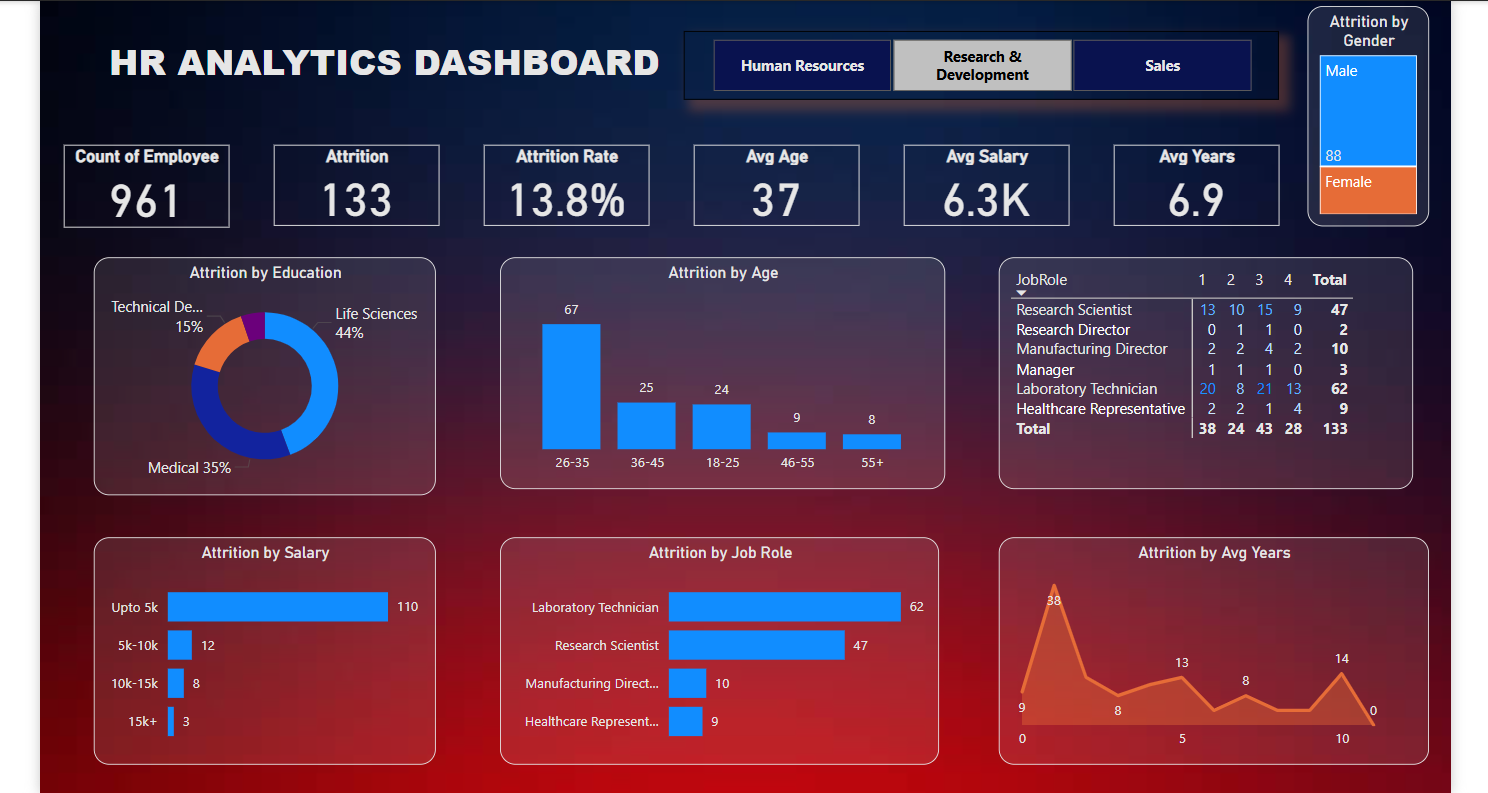

The page's visual inventory and layout, read from the dashboard file:
{"tool":"powerbi","page":{"name":"Page 1","canvas":[1280,720],"ordinal":0},"visuals":[{"type":"card","title":"Count of Employee","fields":{"Values":["CountNonNull(HR_Analytics.EmpID)"]},"box":[21.2,130,150,75],"z":0},{"type":"card","title":"Attrition","fields":{"Values":["Sum(HR_Analytics.AttritionCount)"]},"box":[211.8,130,150,73.8],"z":1000},{"type":"card","title":"Attrition Rate","fields":{"Values":["HR_Analytics.Attrition Rate"]},"box":[402.2,130,150,73.8],"z":2000},{"type":"card","title":"Avg Age","fields":{"Values":["Avg(HR_Analytics.Age)"]},"box":[592.8,130,150,73.8],"z":3000},{"type":"card","title":"Avg Salary","fields":{"Values":["Avg(HR_Analytics.MonthlyIncome)"]},"box":[783.2,130,150,73.8],"z":4000},{"type":"card","title":"Avg Years","fields":{"Values":["Avg(HR_Analytics.YearsAtCompany)"]},"box":[973.8,130,150,73.8],"z":5000},{"type":"donutChart","title":"Attrition by Education","fields":{"Category":["HR_Analytics.EducationField"],"Y":["Sum(HR_Analytics.AttritionCount)"]},"box":[48.8,232.5,310,216.2],"z":6000},{"type":"columnChart","title":"Attrition by Age","fields":{"Category":["HR_Analytics.AgeGroup"],"Y":["Sum(HR_Analytics.AttritionCount)"]},"box":[417.5,232.5,403.8,210],"z":7000},{"type":"pivotTable","title":"Job Satisfaction Rating","fields":{"Rows":["HR_Analytics.JobRole"],"Columns":["HR_Analytics.JobSatisfaction"],"Values":["Sum(HR_Analytics.AttritionCount)"]},"box":[870,232.5,376.2,210],"z":8000},{"type":"barChart","title":"Attrition by Salary","fields":{"Category":["HR_Analytics.SalarySlab"],"Y":["Sum(HR_Analytics.AttritionCount)"]},"box":[48.8,486.2,310,206.2],"z":9000},{"type":"barChart","title":"Attrition by Job Role","fields":{"Y":["Sum(HR_Analytics.AttritionCount)"],"Category":["HR_Analytics.JobRole"]},"box":[417.5,486.2,398.8,206.2],"z":10000},{"type":"areaChart","title":"Attrition by Avg Years","fields":{"Category":["HR_Analytics.YearsAtCompany"],"Y":["Sum(HR_Analytics.AttritionCount)"]},"box":[870,486.2,390,206.2],"z":11000},{"type":"treemap","title":"Attrition by Gender","fields":{"Group":["HR_Analytics.Gender"],"Values":["Sum(HR_Analytics.AttritionCount)"]},"box":[1150,5,110,200],"z":12000},{"type":"slicer","fields":{"Values":["HR_Analytics.Department"]},"box":[583.8,27.5,540,62.5],"z":13000},{"type":"textbox","box":[21.2,27.5,592.5,62.5],"z":14000}]}

Visuals, with their boxes on the page's 1280x720 design canvas (x1, y1, x2, y2). These are canvas units, not pixel positions in the 1488x793 screenshot, which may show the page scaled, cropped or inside an application window:
"Count of Employee" card: <region>21, 130, 171, 205</region>
"Attrition" card: <region>212, 130, 362, 204</region>
"Attrition Rate" card: <region>402, 130, 552, 204</region>
"Avg Age" card: <region>593, 130, 743, 204</region>
"Avg Salary" card: <region>783, 130, 933, 204</region>
"Avg Years" card: <region>974, 130, 1124, 204</region>
"Attrition by Education" donutChart: <region>49, 232, 359, 449</region>
"Attrition by Age" columnChart: <region>418, 232, 821, 442</region>
"Job Satisfaction Rating" pivotTable: <region>870, 232, 1246, 442</region>
"Attrition by Salary" barChart: <region>49, 486, 359, 692</region>
"Attrition by Job Role" barChart: <region>418, 486, 816, 692</region>
"Attrition by Avg Years" areaChart: <region>870, 486, 1260, 692</region>
"Attrition by Gender" treemap: <region>1150, 5, 1260, 205</region>
slicer - HR_Analytics.Department: <region>584, 28, 1124, 90</region>
textbox: <region>21, 28, 614, 90</region>
